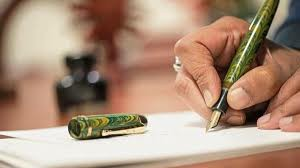pen: (212, 1, 272, 129)
